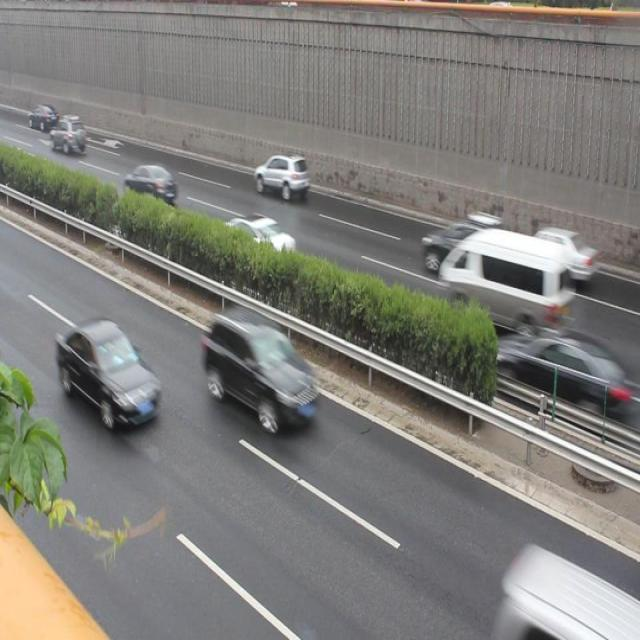car: (203, 306, 318, 426), (57, 316, 161, 424), (492, 330, 614, 420), (211, 215, 296, 279), (516, 225, 599, 282), (254, 152, 309, 200), (123, 161, 177, 206)
truck: (438, 229, 568, 334), (424, 213, 515, 286)
